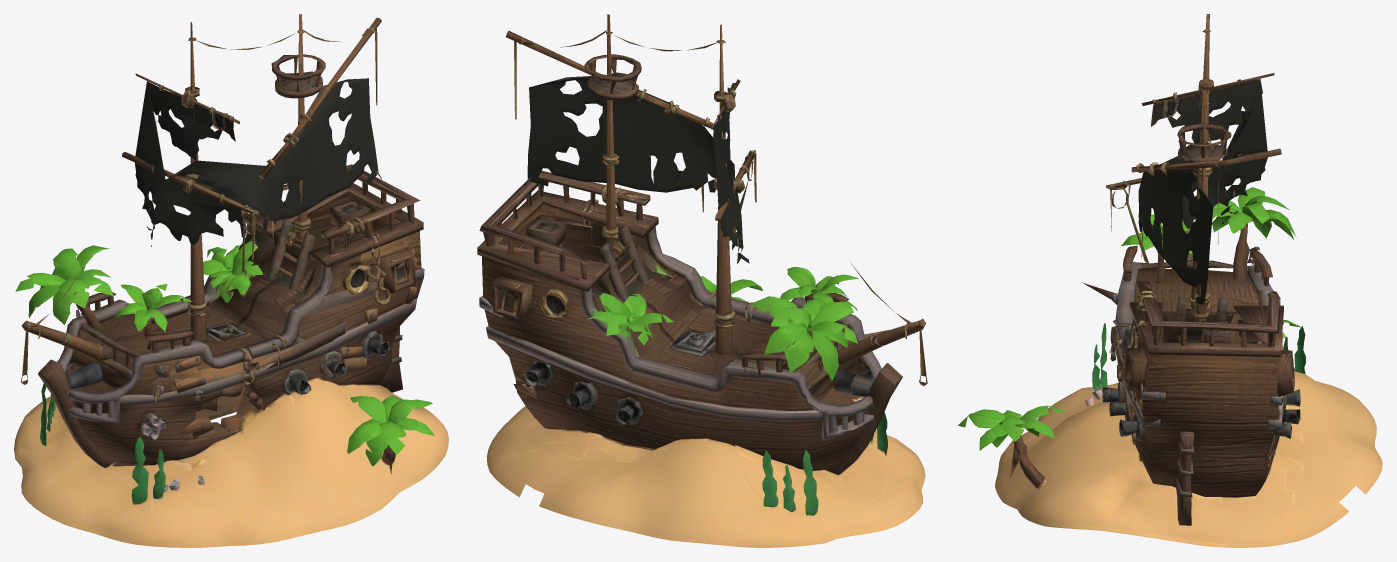
The model's file is playa_galeon.glb.
3 views of the same model, side by side, from view 1: azimuth 30°, elevation 25°; view 2: azimuth 150°, elevation 25°; view 3: azimuth 270°, elevation 25° (orthographic). The views are drawn at different scales.
Parts seen in each view (by area): view 1: tripo_node_8bc1db7d-cdca-4325-a831-f660fbaaca5e; view 2: tripo_node_8bc1db7d-cdca-4325-a831-f660fbaaca5e; view 3: tripo_node_8bc1db7d-cdca-4325-a831-f660fbaaca5e.
Part boxes in pixels (x1,y1,x2,y2): tripo_node_8bc1db7d-cdca-4325-a831-f660fbaaca5e: [14, 14, 448, 547]; tripo_node_8bc1db7d-cdca-4325-a831-f660fbaaca5e: [477, 14, 927, 547]; tripo_node_8bc1db7d-cdca-4325-a831-f660fbaaca5e: [958, 14, 1382, 547].
Bounding box in the file's own units: 0.9104 × 0.9995 × 0.853.
Materials: 1 (1 with a texture image).
